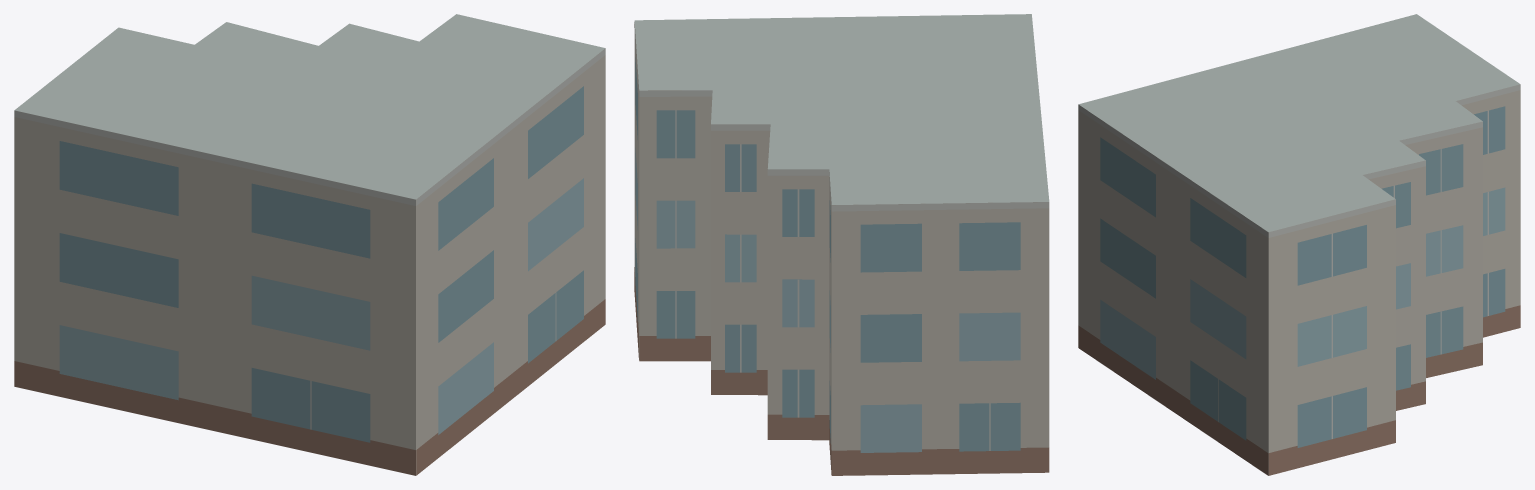
Rendered from survey-upis-32696492.glb.
3 renders of one model, left to right at view 1: azimuth 30°, elevation 25°; view 2: azimuth 150°, elevation 25°; view 3: azimuth 270°, elevation 25°, orthographic. The views are drawn at different scales.
Parts seen in each view (by area): view 1: survey-upis-32696492.tmp; view 2: survey-upis-32696492.tmp; view 3: survey-upis-32696492.tmp.
Boxes of the visible parts, bbox=[...] form: survey-upis-32696492.tmp: bbox=[14, 14, 605, 475]; survey-upis-32696492.tmp: bbox=[634, 14, 1049, 475]; survey-upis-32696492.tmp: bbox=[1078, 14, 1520, 475].
Size of the model in its own units: 19.8 by 10.3 by 16.96.
